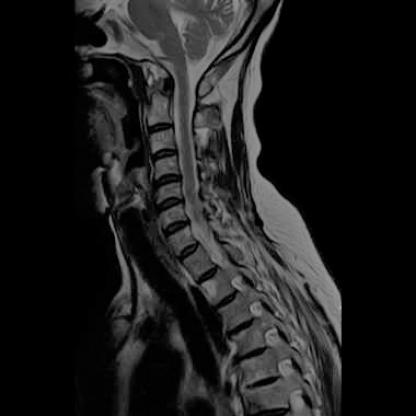Disc Bulgerotation: (152, 196, 186, 214), (150, 173, 183, 191), (160, 218, 190, 237)
